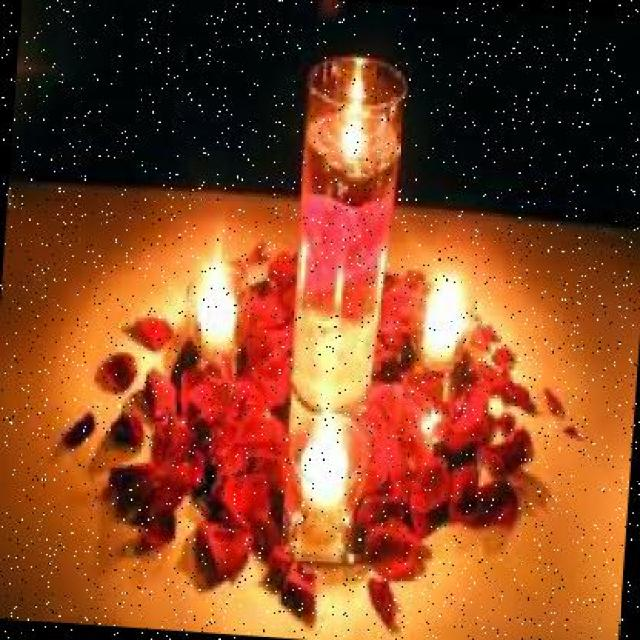fire: (183, 241, 248, 354), (412, 262, 472, 348), (295, 401, 357, 477), (324, 77, 374, 152)
